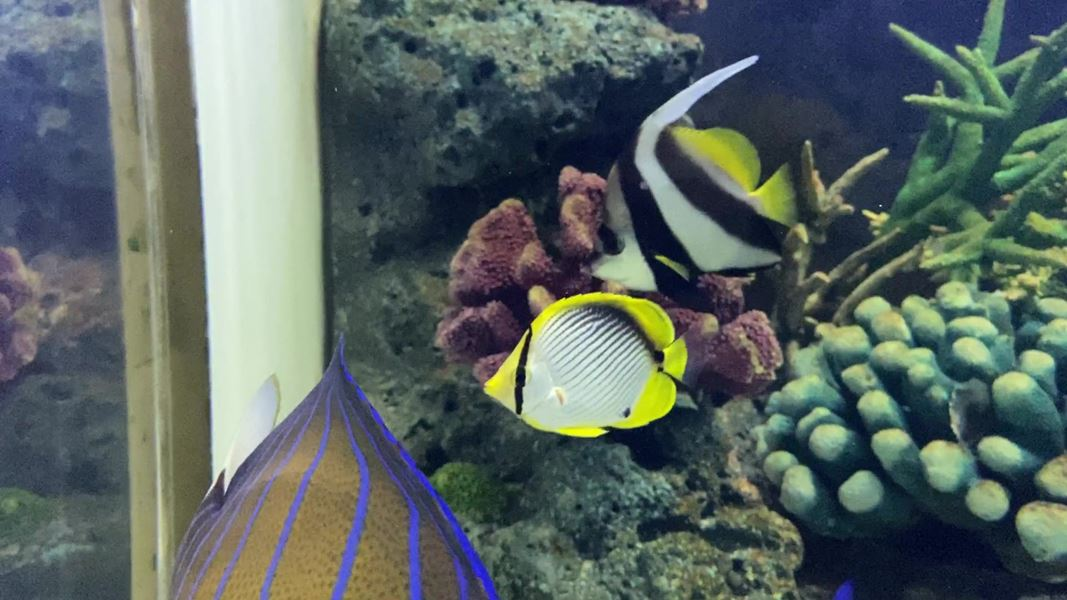Black-backed butterflyfish: (475, 284, 723, 451)
